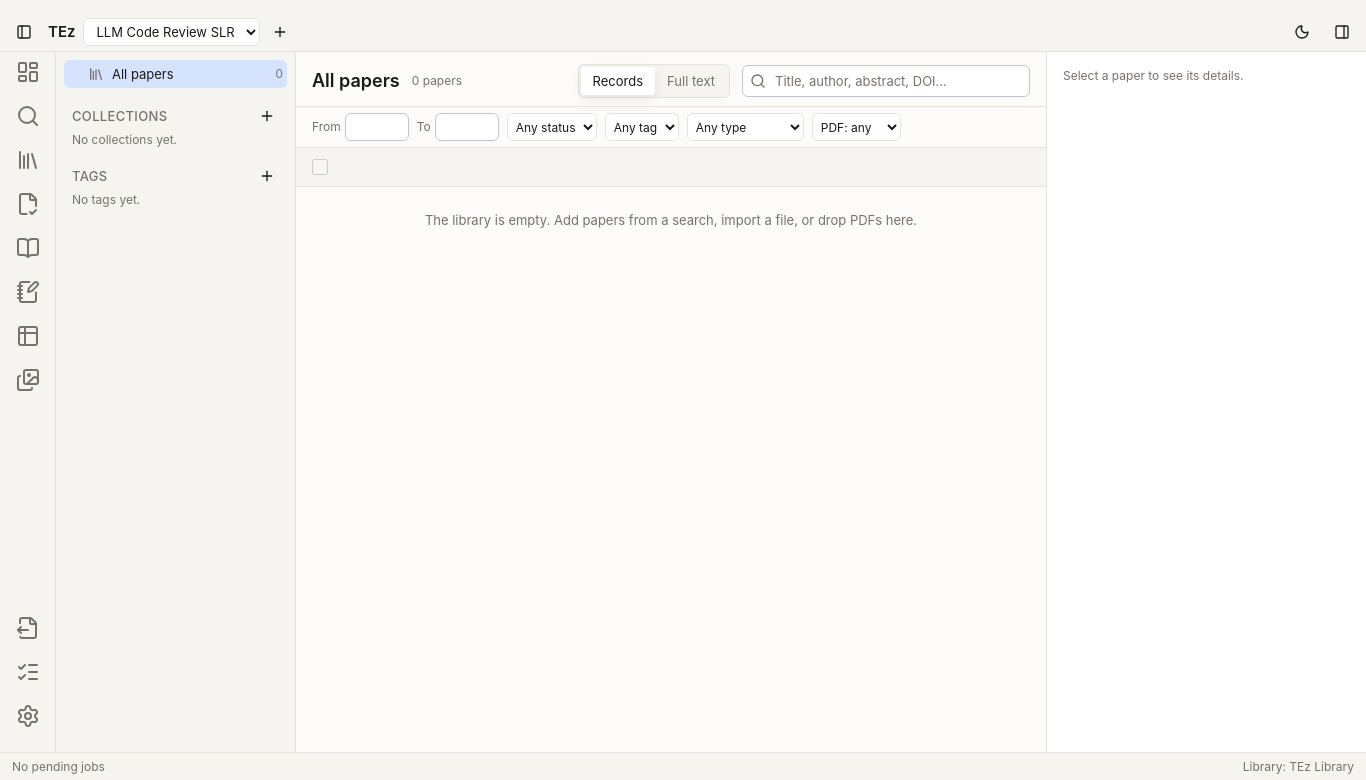
Test: the review panel › is reached from the navigation rail
Click the link named "Review": (28, 72) [16,60,40,84]
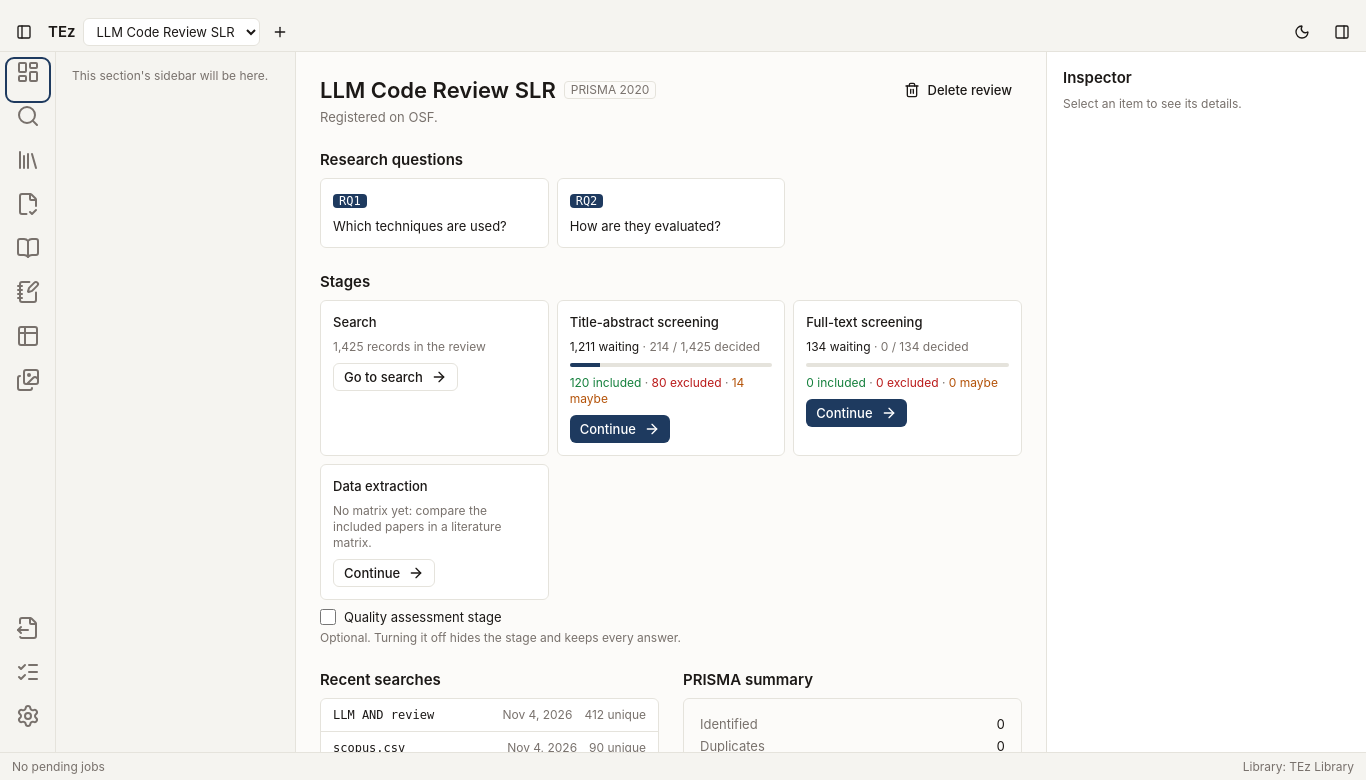
Now the heading "LLM Code Review SLR" is shown, box [320,76,556,104]
